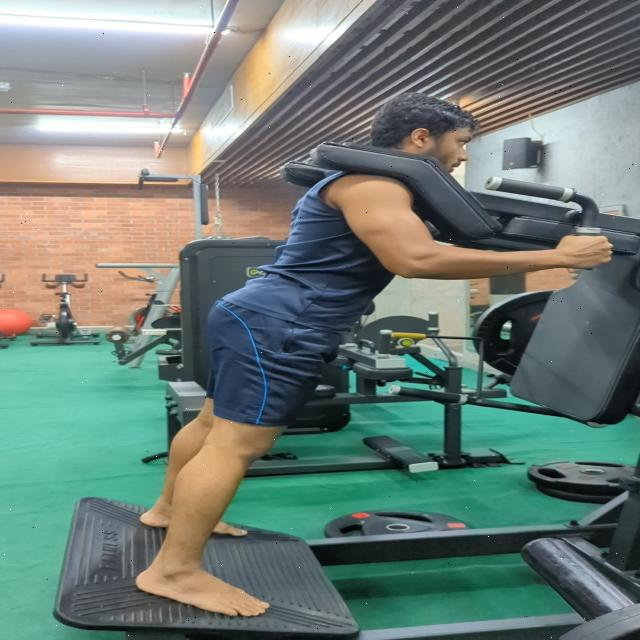Normal_SquatsWithBarbell: (118, 85, 640, 640)
